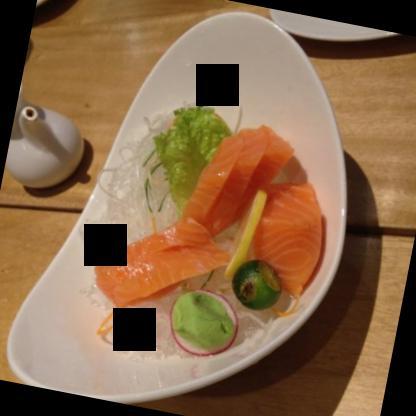salmon: (89, 102, 296, 327), (243, 174, 333, 301)
